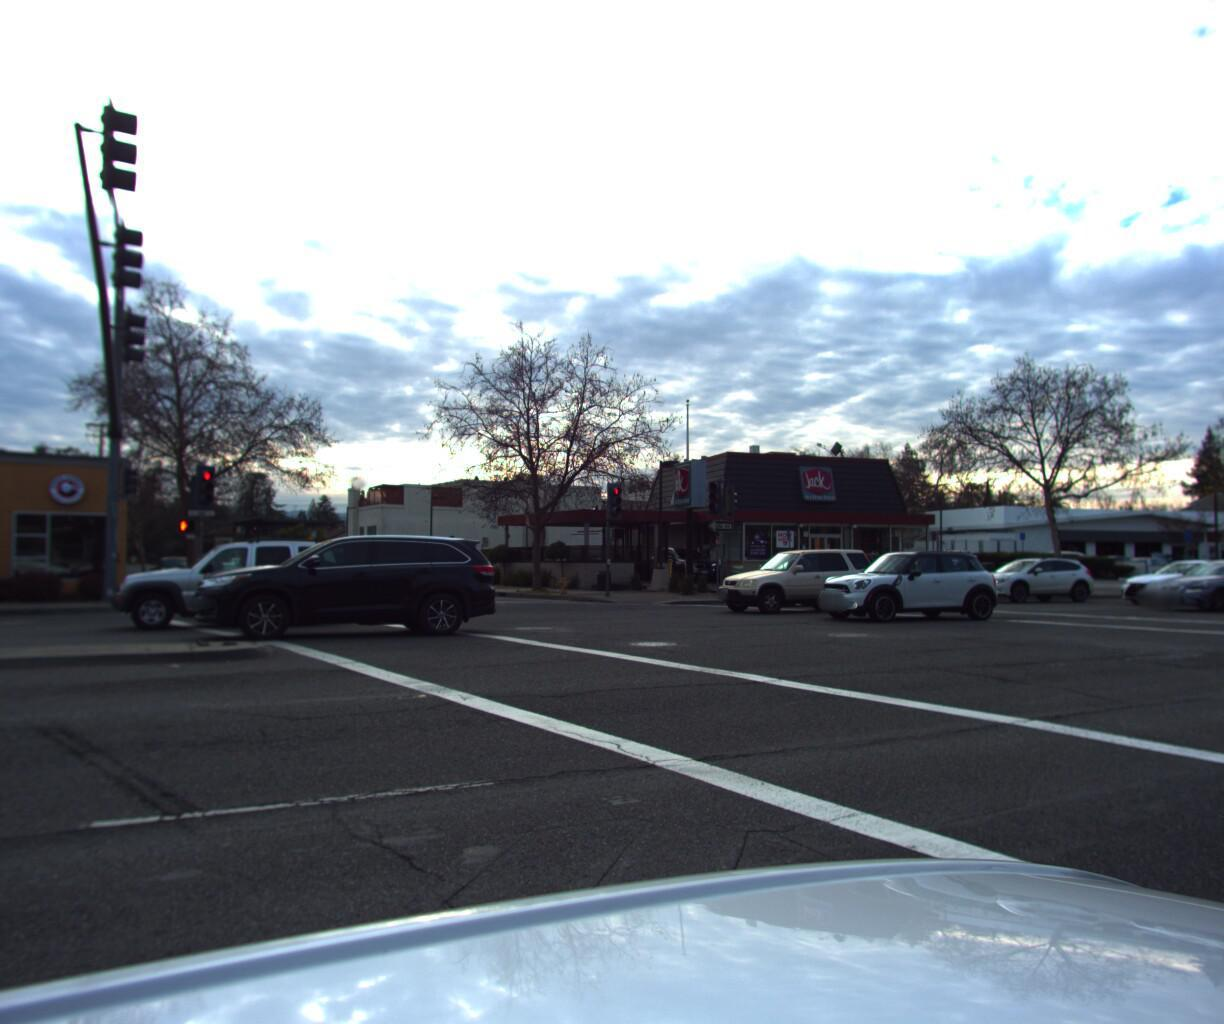car: (187, 529, 500, 646), (96, 534, 350, 630), (803, 544, 1007, 623), (703, 543, 888, 612), (1103, 553, 1224, 606), (956, 554, 1092, 600), (1133, 553, 1224, 609), (642, 543, 722, 582), (1032, 546, 1103, 579), (1104, 552, 1179, 581), (151, 557, 203, 590), (1218, 548, 1224, 583)
